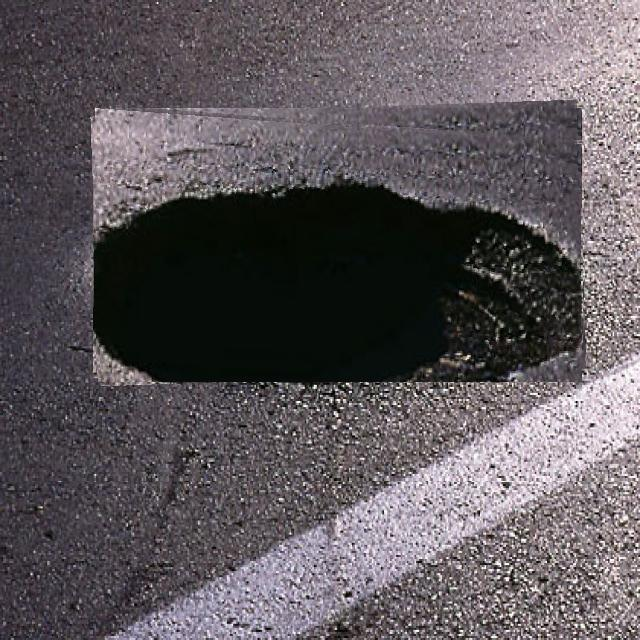Pothole: (93, 104, 584, 382)
